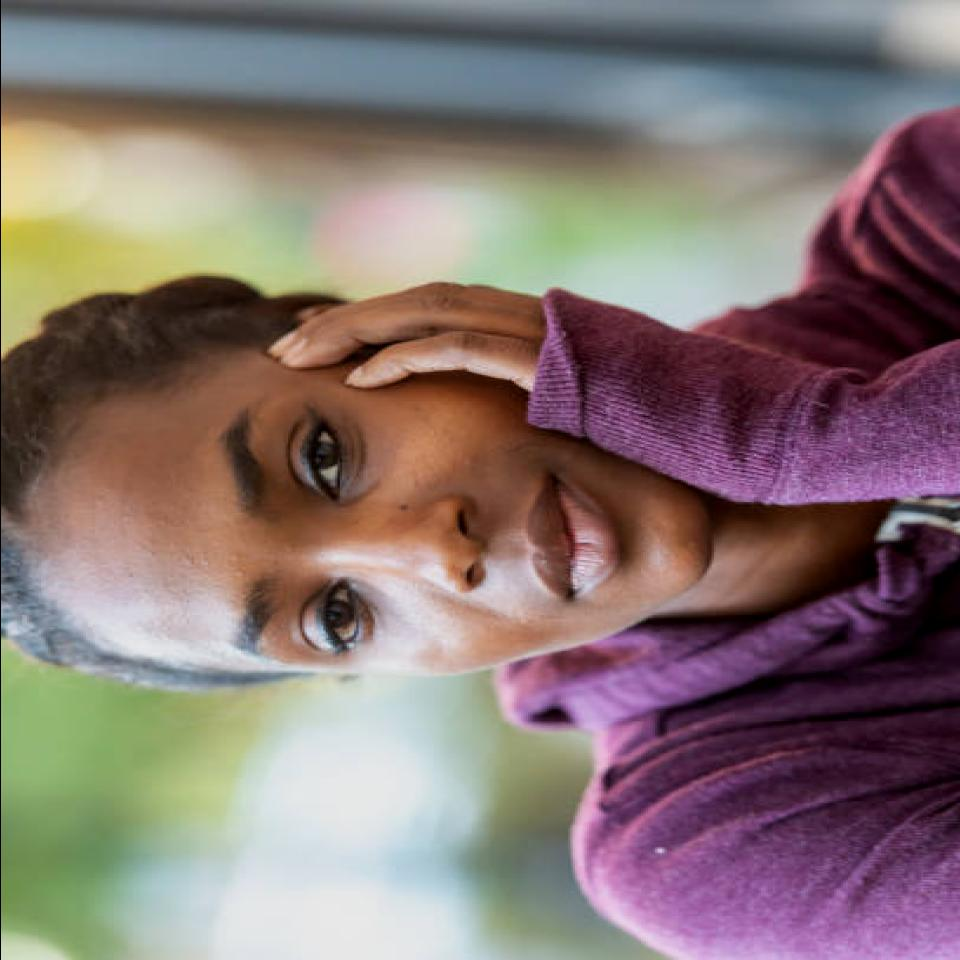Sadness: (52, 364, 688, 678)
